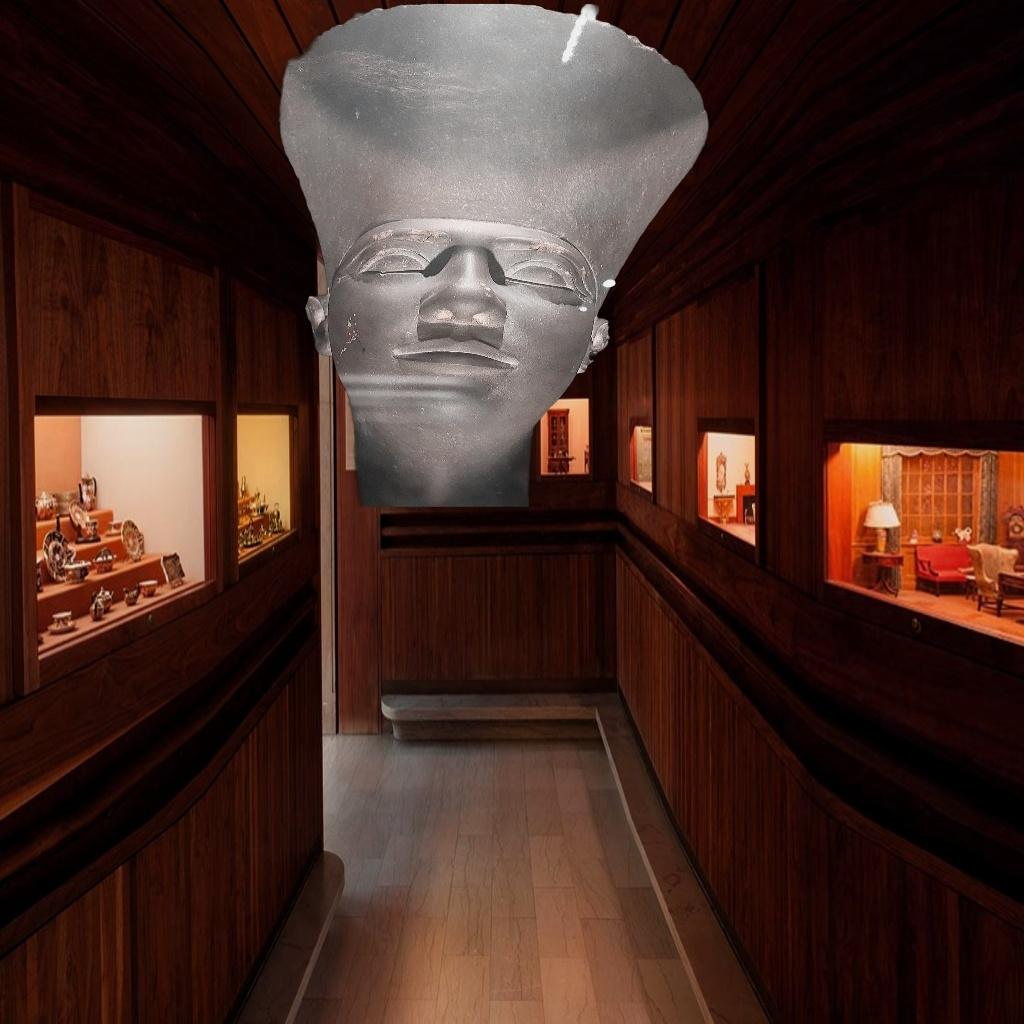Head of Userkaf: (272, 4, 710, 507)
